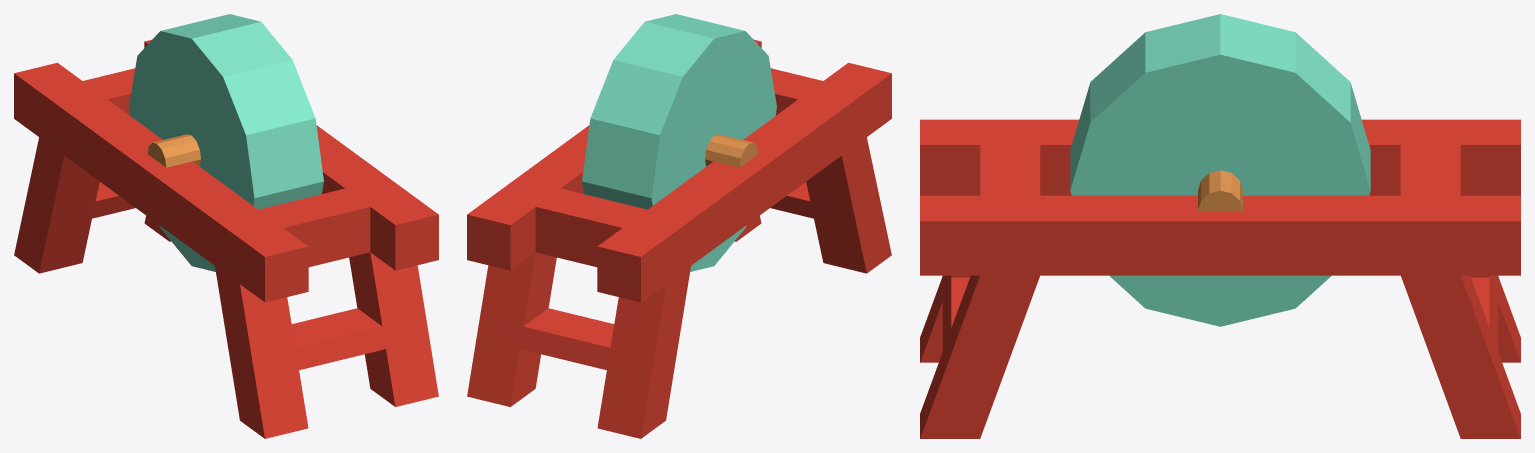
The model's file is Whetstone.fbx.
3 renders of one model, left to right at view 1: azimuth 30°, elevation 25°; view 2: azimuth 150°, elevation 25°; view 3: azimuth 270°, elevation 25°, orthographic. The views are drawn at different scales.
Parts seen in each view (by area): view 1: Whetstone; view 2: Whetstone; view 3: Whetstone.
Boxes of the visible parts, x1,y1,x2,y2 form: Whetstone: (14, 14, 438, 438); Whetstone: (467, 14, 891, 438); Whetstone: (920, 14, 1520, 438).
Bounding box in the file's own units: 200 × 500 × 325.
